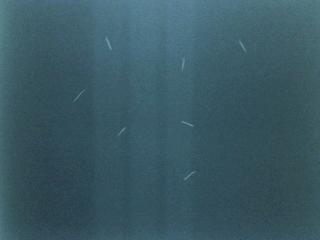scratch: (175, 165, 204, 184), (172, 50, 194, 75), (68, 85, 91, 107), (112, 120, 134, 141), (176, 116, 201, 133), (100, 33, 118, 56), (235, 36, 254, 57)
